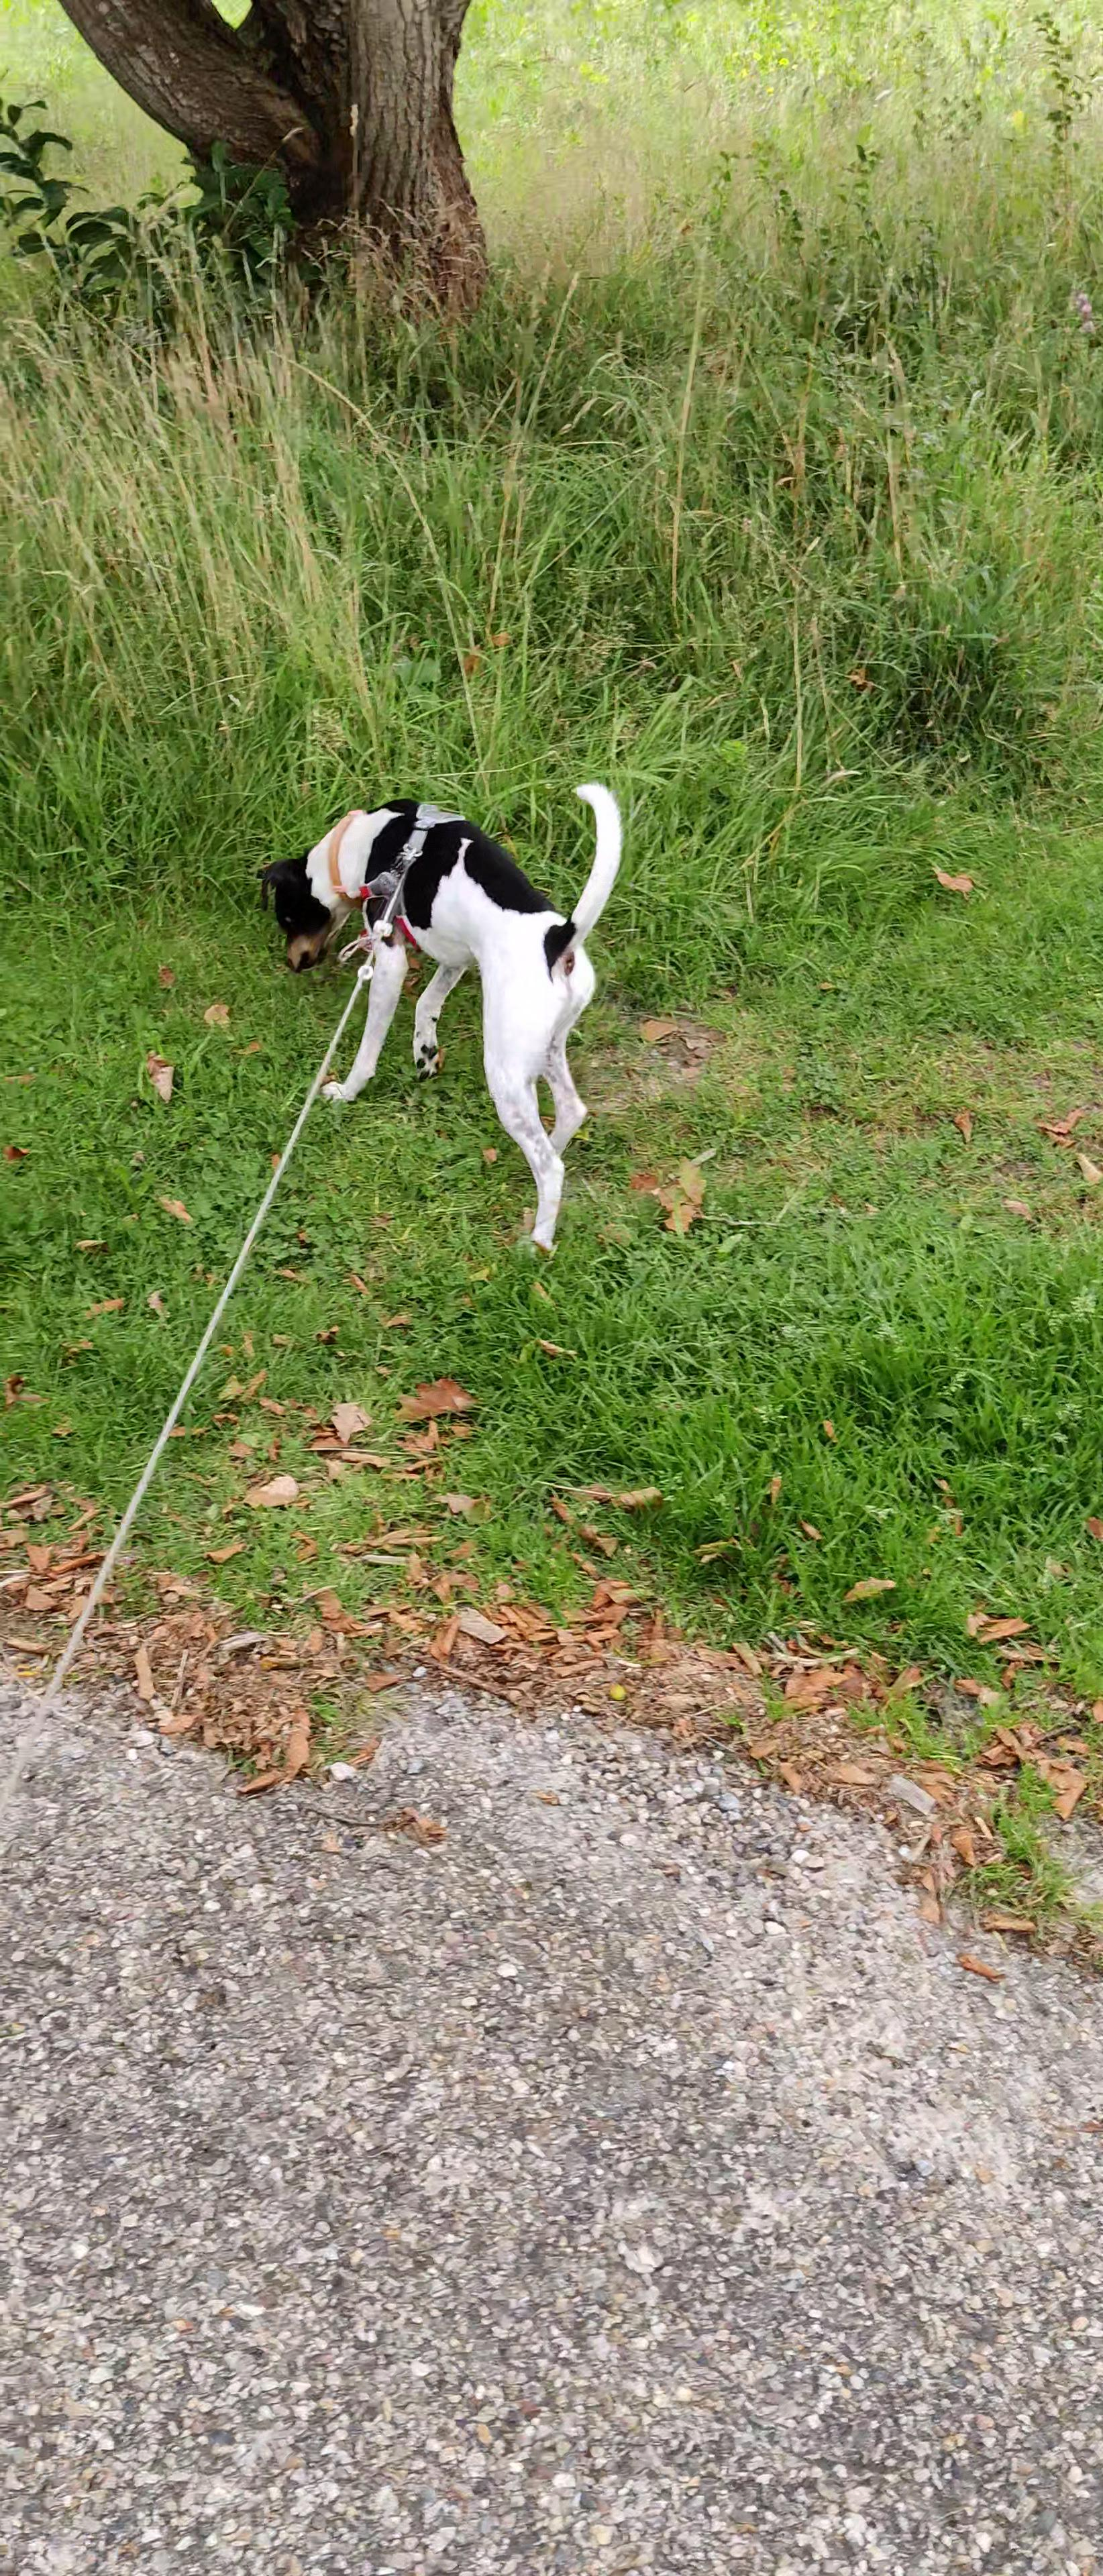Dog: (255, 779, 625, 1255)
